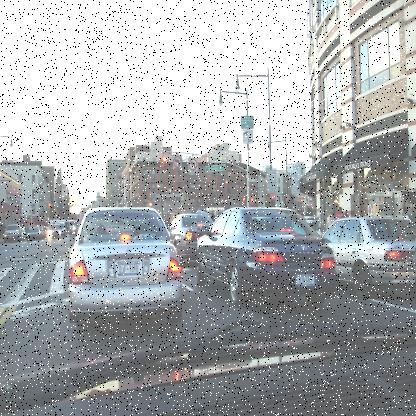Car: (198, 208, 341, 308), (69, 208, 184, 324), (322, 195, 416, 300), (170, 212, 220, 268), (292, 220, 333, 238), (25, 225, 41, 240), (47, 224, 61, 238), (110, 225, 122, 233), (124, 224, 136, 232), (37, 225, 44, 238), (42, 226, 48, 236), (21, 226, 25, 240)
